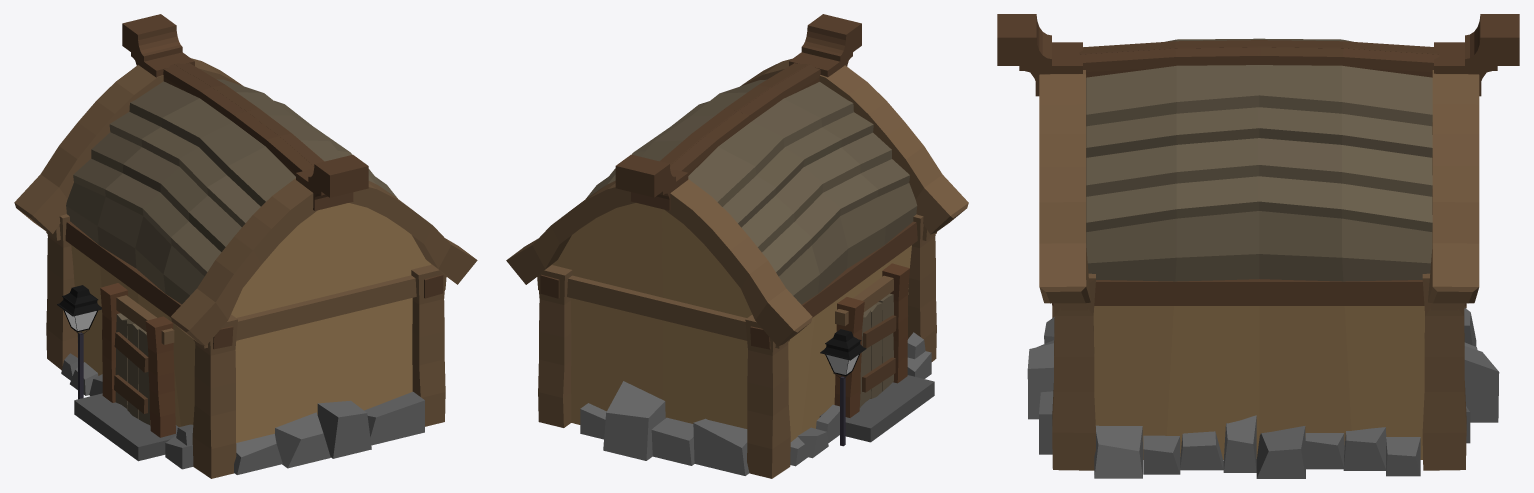
Rendered from casa2.0.fbx.
3 views of the same model, side by side, from view 1: azimuth 30°, elevation 25°; view 2: azimuth 150°, elevation 25°; view 3: azimuth 270°, elevation 25° (orthographic). The views are drawn at different scales.
Visible parts, largest first — view 1: casa.001, pedras.001, negocinho feio.001, madeira porta.001, porta.001, porta.009, negocinho feio.020; view 2: casa.001, pedras.001, negocinho feio.001, porta.001, madeira porta.001, porta.009, negocinho feio.020; view 3: casa.001, pedras.001, negocinho feio.001.
Boxes of the visible parts, <box> form: casa.001: <box>14,58,477,478</box>; pedras.001: <box>61,353,424,474</box>; negocinho feio.001: <box>122,14,368,210</box>; madeira porta.001: <box>100,283,175,437</box>; porta.001: <box>74,295,178,461</box>; porta.009: <box>114,313,150,424</box>; negocinho feio.020: <box>57,285,101,316</box>; casa.001: <box>506,58,968,478</box>; pedras.001: <box>580,332,931,475</box>; negocinho feio.001: <box>615,14,861,210</box>; porta.001: <box>819,275,934,442</box>; madeira porta.001: <box>834,263,909,417</box>; porta.009: <box>859,293,896,407</box>; negocinho feio.020: <box>820,329,866,360</box>; casa.001: <box>1039,38,1479,470</box>; pedras.001: <box>1027,308,1499,478</box>; negocinho feio.001: <box>997,14,1519,96</box>.
Bounding box in the file's own units: 3673 × 3502 × 4441.
